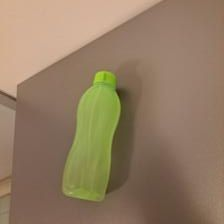bottle: (58, 68, 124, 204)
